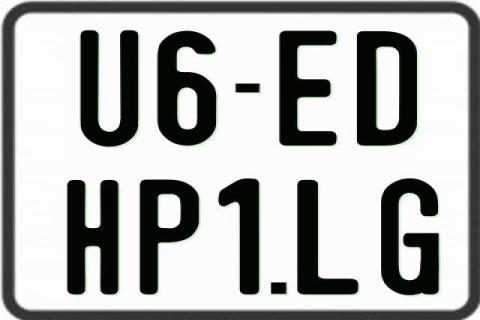0: (155, 30, 217, 146), (218, 179, 262, 295)
D: (357, 31, 421, 149)
E: (277, 31, 338, 150)
G: (380, 179, 441, 297)
H: (66, 178, 117, 294)
L: (296, 178, 362, 296)
P: (139, 178, 204, 298)
U: (79, 30, 137, 150)
